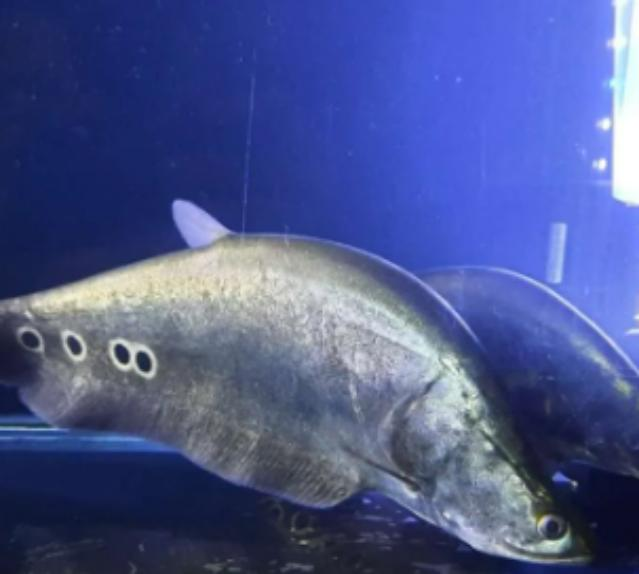Mulut: (478, 499, 607, 574)
Sirip Dada: (321, 406, 437, 512)
Sirip Punggung: (165, 187, 246, 265)
